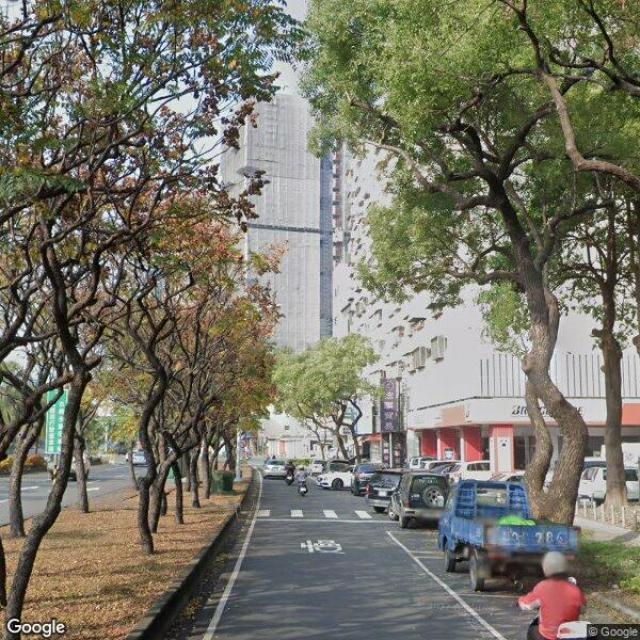Legalparking: (450, 473, 588, 590), (356, 461, 474, 530)
illegalparking: (323, 466, 352, 488)
